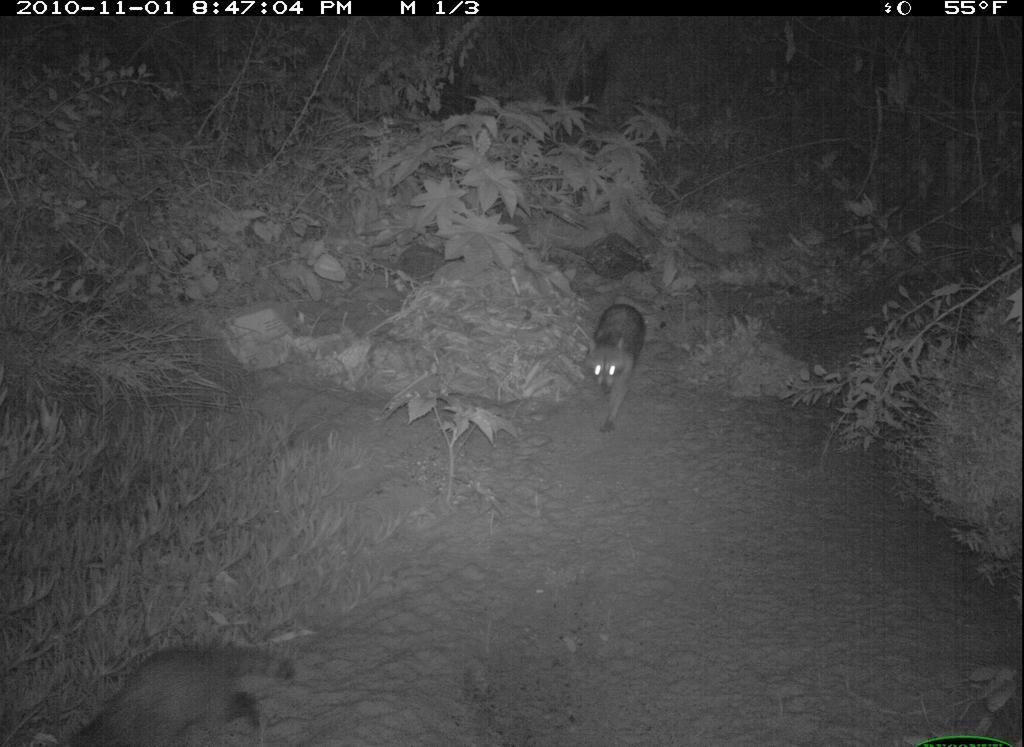raccoon: (56, 646, 307, 747), (577, 291, 649, 442)
